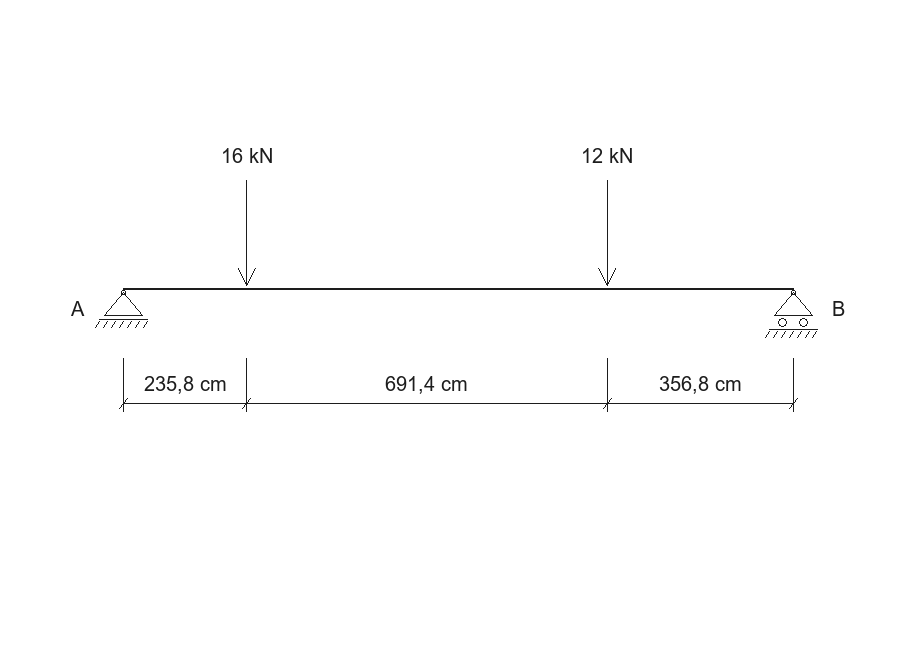pin_support: (95, 290, 148, 328)
point_load: (238, 180, 256, 286), (598, 180, 616, 286)
roller_support: (765, 290, 818, 338)
